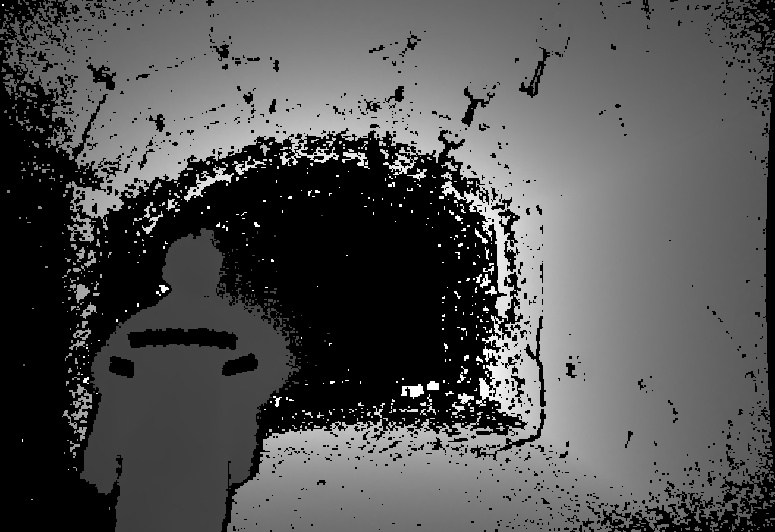person: (81, 227, 292, 532)
